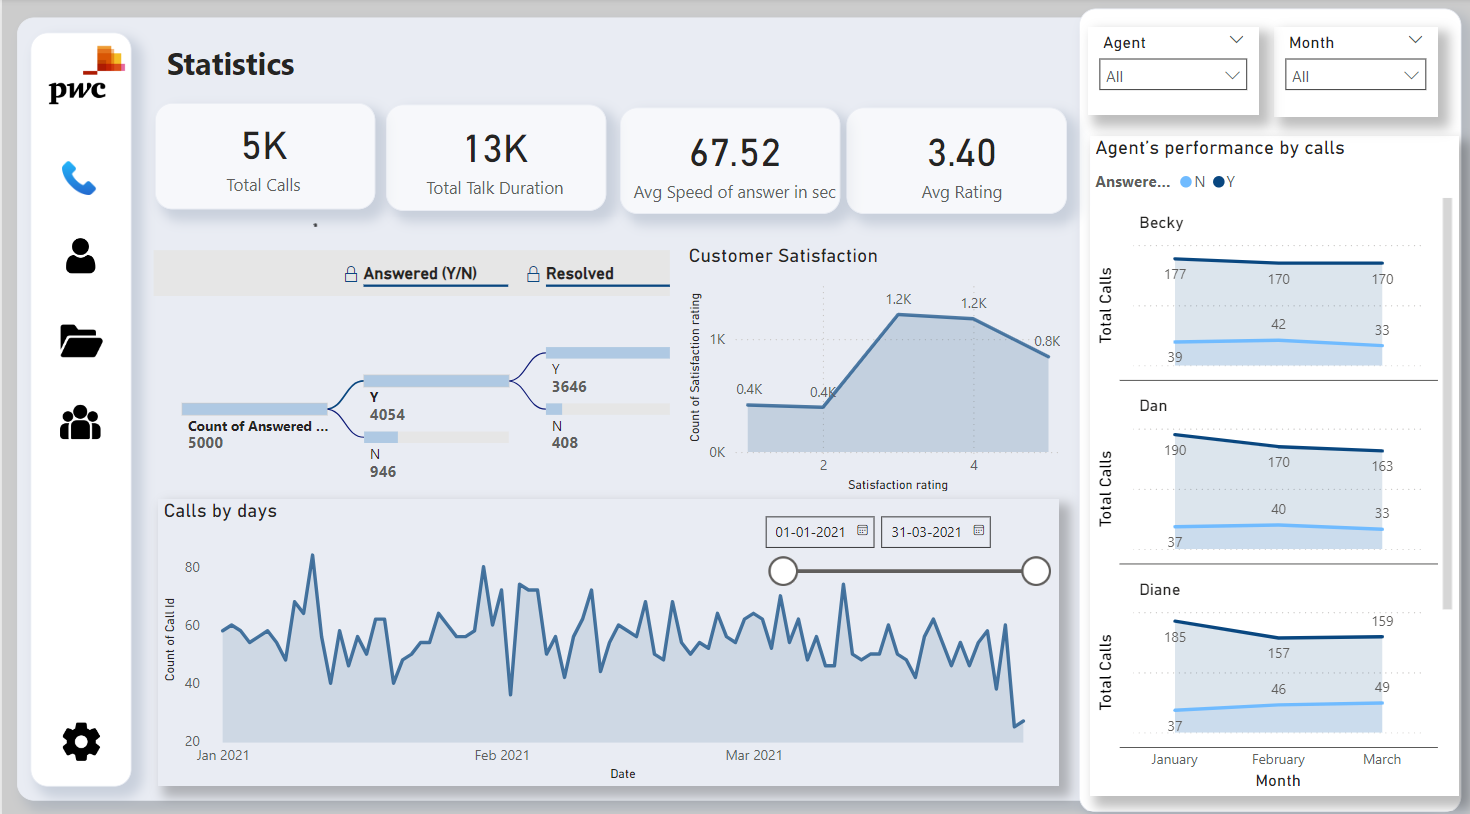

The page's visual inventory and layout, read from the dashboard file:
{"tool":"powerbi","page":{"name":"Duplicate of Page 1","canvas":[1280,720],"ordinal":0},"visuals":[{"type":"group","id":"g1","title":"Layer 1","box":[13.3,17.4,1232.9,682.9],"z":0},{"type":"shape","box":[13.3,17.4,1232.9,682.9],"z":1000,"group":"g1"},{"type":"shape","box":[24.2,30.3,87.8,657.2],"z":1000},{"type":"shape","box":[133.1,91.8,192.3,92.4],"z":2000},{"type":"shape","box":[938.8,9.1,333.1,701.1],"z":3000},{"type":"shape","box":[334.4,93.3,192.3,92.4],"z":4000},{"type":"shape","box":[538.9,94.9,192.3,92.4],"z":5000},{"type":"shape","box":[735.7,94.9,192.3,92.4],"z":6000},{"type":"slicer","fields":{"Values":["Sheet1.Agent"]},"box":[946.4,24.2,148.4,77.2],"z":7000},{"type":"card","fields":{"Values":["CountNonNull(Sheet1.Call Id)"]},"box":[138.6,75.7,154.3,118.6],"z":8000},{"type":"decompositionTreeVisual","title":"Answered/ Abandoned","fields":{"Analyze":["CountNonNull(Sheet1.Answered (Y/N))"],"ExplainBy":["Sheet1.Answered (Y/N)","Sheet1.Resolved"]},"box":[126.7,215,460,220],"z":9000},{"type":"slicer","fields":{"Values":["Sheet1.Date.Variation.Date Hierarchy.Month"]},"box":[1108.4,24.2,142.3,78.7],"z":10000},{"type":"card","fields":{"Values":["Sum(Sheet1.AvgTalkDuration)"]},"box":[324.3,78.6,210,118.6],"z":11000},{"type":"card","fields":{"Values":["Avg(Sheet1.Speed of answer in seconds)"]},"box":[534.3,87.1,207.1,107.1],"z":12000},{"type":"card","fields":{"Values":["Avg(Sheet1.Satisfaction rating)"]},"box":[748.6,81.4,174.3,120],"z":13000},{"type":"areaChart","title":"Customer Satisfaction","fields":{"Category":["Sheet1.Satisfaction rating"],"Y":["CountNonNull(Sheet1.Satisfaction rating)"]},"box":[593.3,215,333.3,220],"z":14000},{"type":"areaChart","title":"Agent’s performance by calls","fields":{"Y":["CountNonNull(Sheet1.Call Id)"],"Series":["Sheet1.Answered (Y/N)"],"Rows":["Sheet1.Agent"],"Category":["Sheet1.Date.Variation.Date Hierarchy.Month"]},"box":[948.3,120,321.7,575],"z":15000},{"type":"image","box":[37.9,126.7,59.1,59.1],"z":16000},{"type":"image","box":[45.4,274.1,46.9,48.5],"z":17000},{"type":"image","box":[36.3,204.4,63.6,40.9],"z":18000},{"type":"image","box":[263.5,190.8,18.2,13.6],"z":19000},{"type":"image","box":[45.4,626.9,46.9,43.9],"z":20000},{"type":"areaChart","title":"Calls by days","fields":{"Category":["Sheet1.Date"],"Y":["CountNonNull(Sheet1.Call Id)"]},"box":[136.6,437.4,785,250],"z":20001,"group":"g1"},{"type":"image","box":[34.8,24.2,77.2,84.8],"z":21000},{"type":"image","box":[37.9,346.8,60.6,45.4],"z":22000},{"type":"slicer","fields":{"Values":["Sheet1.Date"]},"box":[652,442,270,74],"z":23000},{"type":"textbox","box":[138.3,33.3,155,70],"z":24000},{"type":"actionButton","box":[0,0,100,40],"z":25000}]}

Visuals, with their boxes in screenshot pixels (x1, y1, x2, y2):
"Layer 1" group: bbox(125, 65, 1453, 800)
shape: bbox(125, 65, 1453, 800)
shape: bbox(137, 79, 232, 787)
shape: bbox(254, 145, 462, 244)
shape: bbox(1122, 56, 1469, 811)
shape: bbox(471, 146, 678, 246)
shape: bbox(692, 148, 899, 248)
shape: bbox(904, 148, 1111, 248)
slicer - Sheet1.Agent: bbox(1131, 72, 1290, 155)
card - CountNonNull(Sheet1.Call Id): bbox(260, 127, 427, 255)
"Answered/ Abandoned" decompositionTreeVisual: bbox(248, 278, 743, 515)
slicer - Sheet1.Date.Variation.Date Hierarchy.Month: bbox(1305, 72, 1458, 157)
card - Sum(Sheet1.AvgTalkDuration): bbox(460, 131, 687, 258)
card - Avg(Sheet1.Speed of answer in seconds): bbox(687, 140, 910, 255)
card - Avg(Sheet1.Satisfaction rating): bbox(917, 134, 1105, 263)
"Customer Satisfaction" areaChart: bbox(750, 278, 1109, 515)
"Agent’s performance by calls" areaChart: bbox(1133, 175, 1469, 795)
image: bbox(152, 182, 216, 246)
image: bbox(160, 341, 210, 393)
image: bbox(150, 266, 219, 310)
image: bbox(395, 251, 414, 266)
image: bbox(160, 721, 210, 769)
"Calls by days" areaChart: bbox(258, 517, 1104, 786)
image: bbox(149, 72, 232, 163)
image: bbox(152, 420, 217, 468)
slicer - Sheet1.Date: bbox(813, 522, 1104, 602)
textbox: bbox(260, 82, 427, 157)
actionButton: bbox(111, 46, 219, 89)
